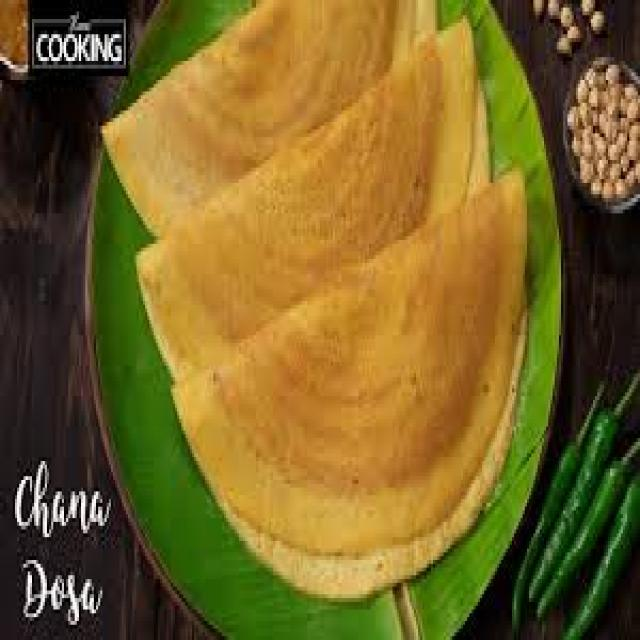DOSA: (169, 175, 523, 552), (141, 23, 486, 373), (102, 0, 435, 232)
